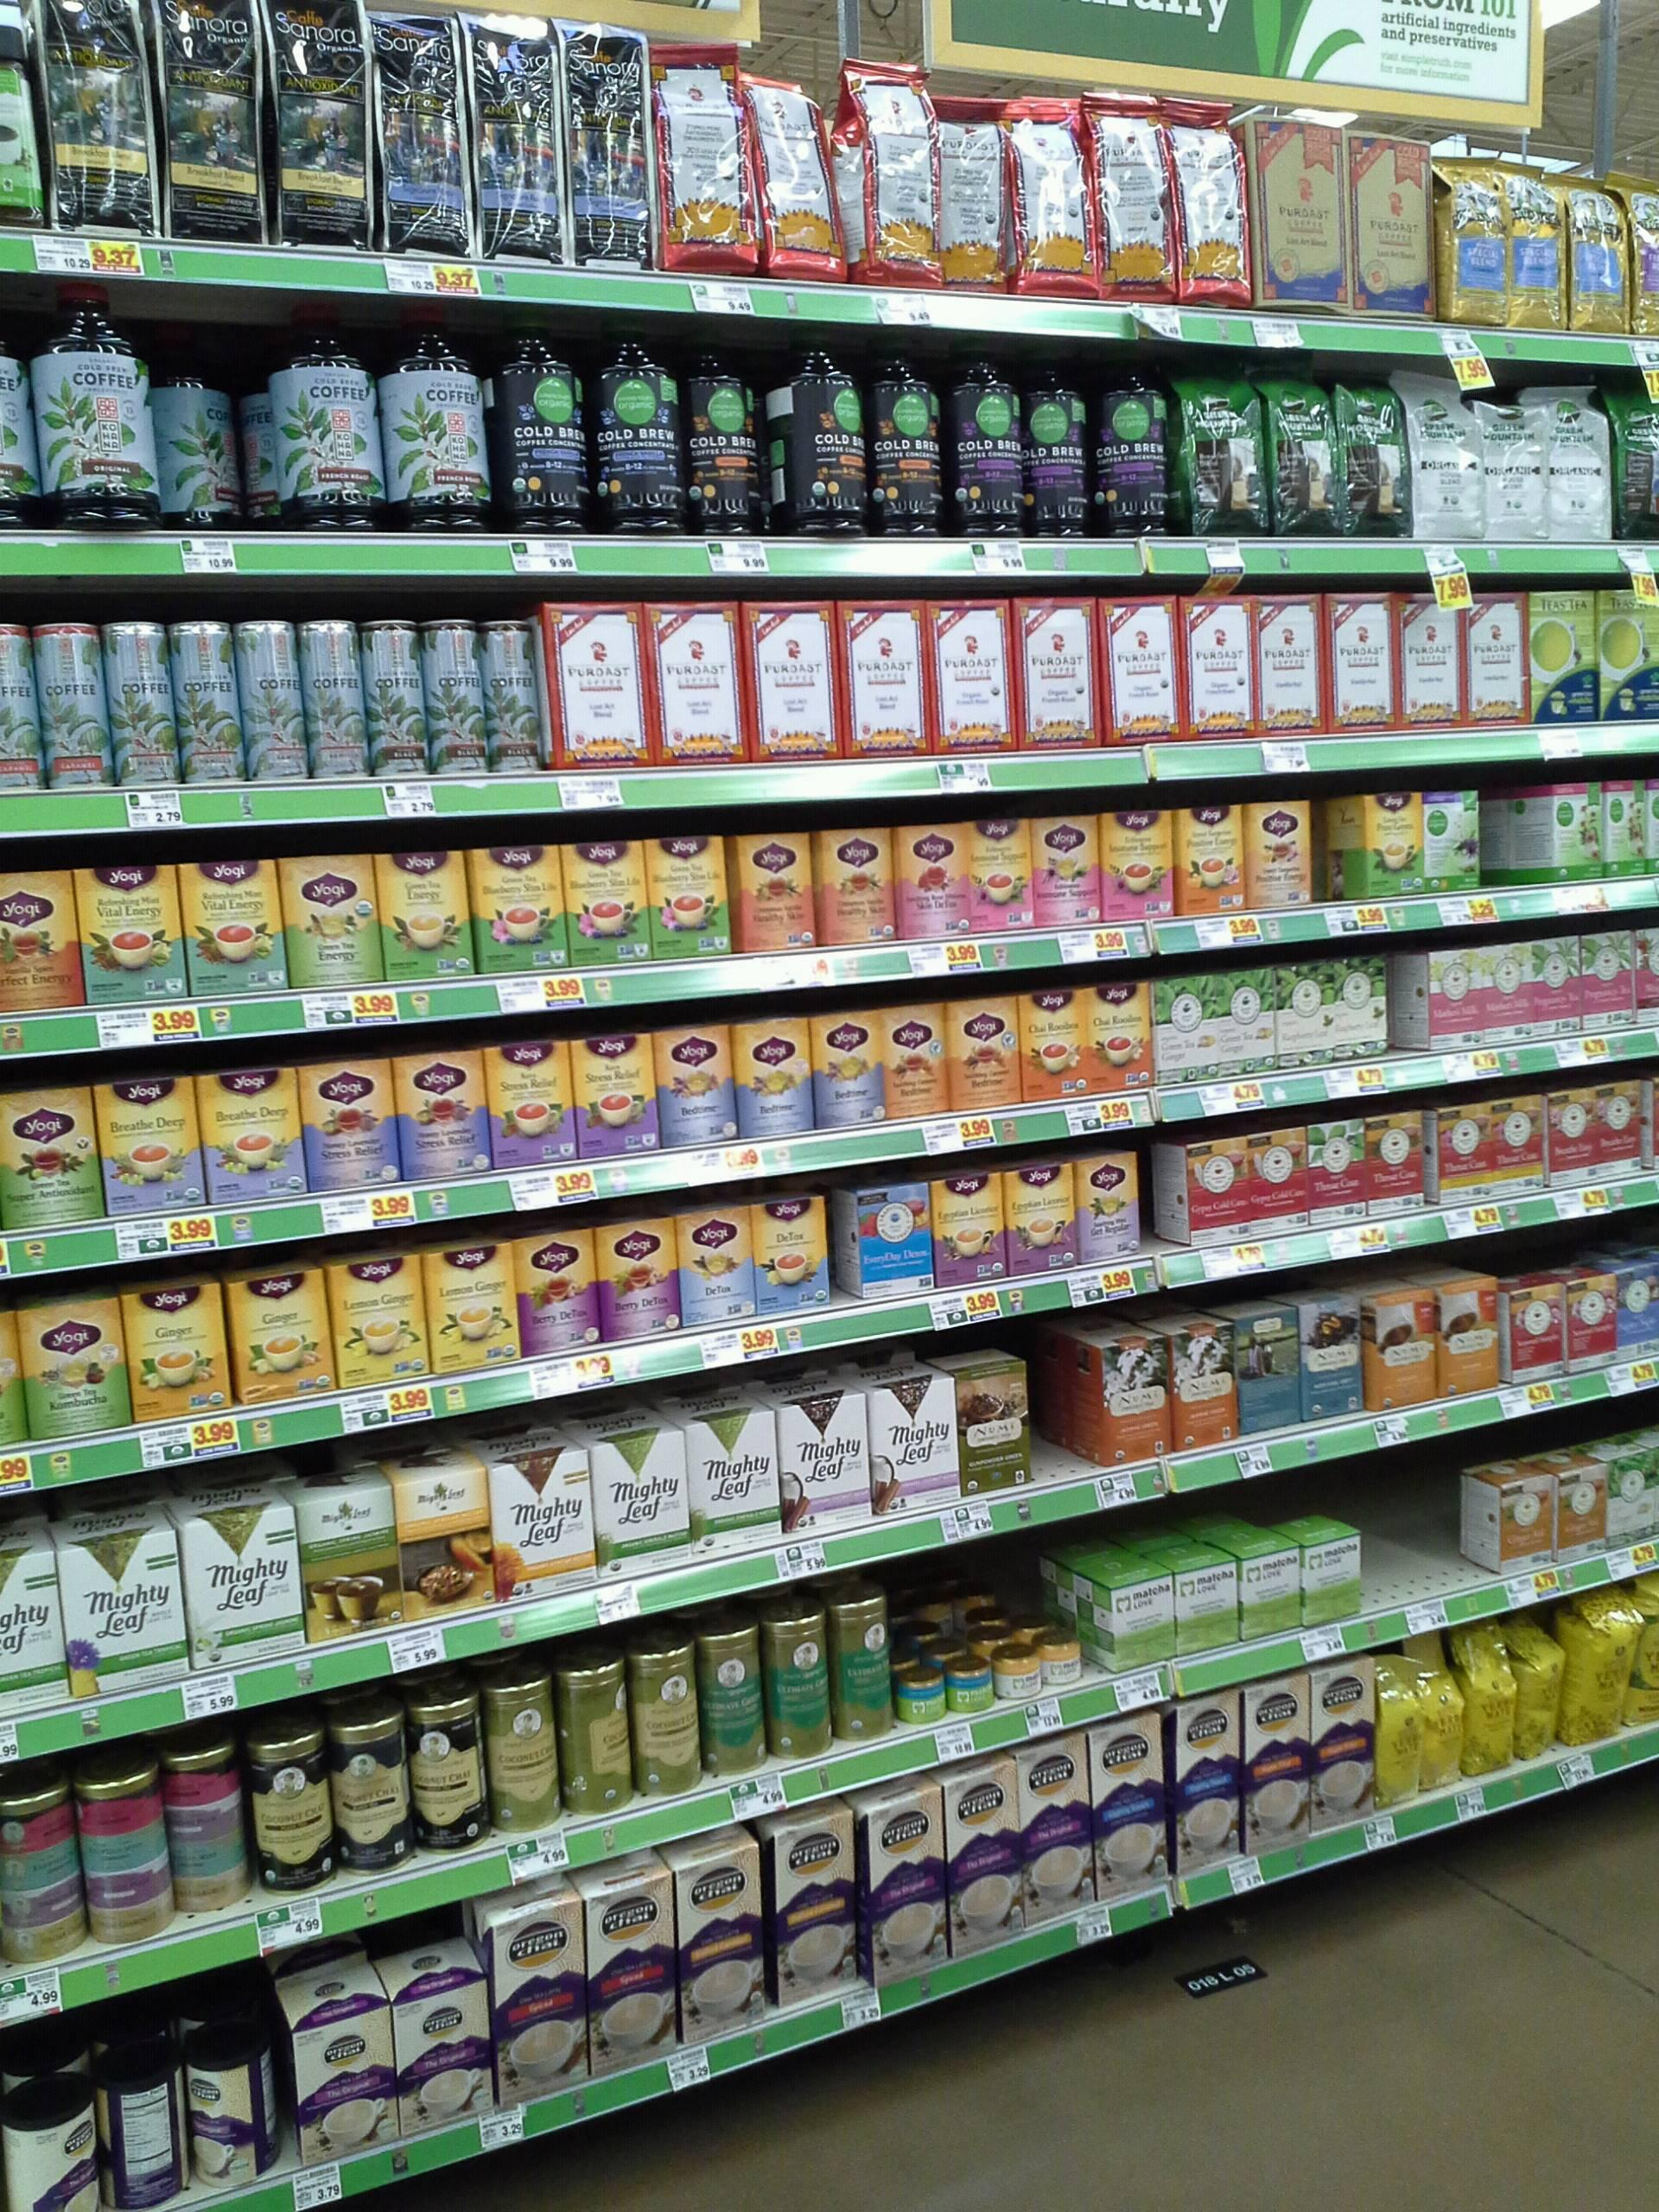empty: (1359, 1482, 1488, 1595), (1023, 1324, 1096, 1484)
